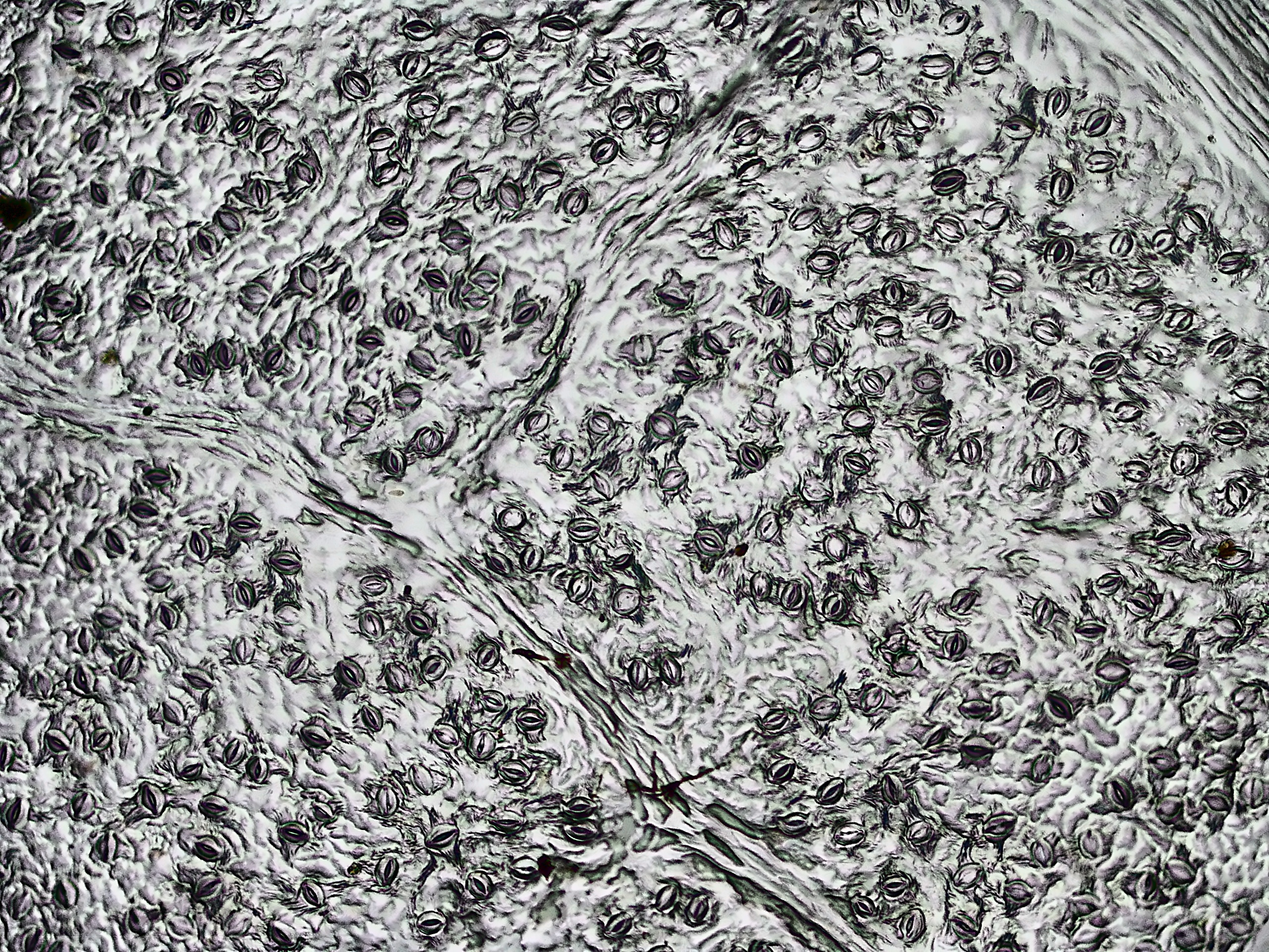stomata: (536, 9, 590, 48), (469, 29, 518, 71), (624, 36, 676, 75), (1161, 853, 1211, 893), (61, 656, 101, 705), (917, 45, 966, 84), (865, 768, 910, 810), (37, 276, 88, 313), (649, 278, 704, 312), (976, 335, 1015, 379), (21, 318, 79, 347), (45, 0, 95, 33), (44, 212, 88, 249), (1207, 609, 1252, 645), (1197, 745, 1247, 777), (333, 66, 380, 100), (926, 162, 973, 196), (41, 39, 97, 67), (1224, 467, 1258, 513), (802, 244, 850, 276), (1026, 591, 1066, 629), (151, 54, 184, 100), (1179, 202, 1216, 243), (102, 6, 144, 42), (874, 266, 910, 308), (122, 493, 174, 522), (68, 466, 103, 509), (981, 812, 1025, 846), (1041, 684, 1078, 724), (1075, 823, 1112, 863), (563, 511, 609, 543), (846, 46, 892, 78), (708, 0, 757, 30), (907, 366, 956, 396), (1234, 675, 1269, 717), (577, 54, 620, 88), (500, 108, 547, 139), (734, 440, 778, 473), (608, 580, 644, 620), (495, 176, 530, 217), (824, 297, 866, 331), (888, 496, 930, 530), (227, 102, 258, 148), (373, 203, 416, 236), (1102, 770, 1134, 814), (970, 46, 1009, 82), (793, 122, 834, 156), (1086, 347, 1127, 381), (935, 584, 986, 611), (211, 204, 250, 239), (338, 394, 377, 429), (987, 262, 1026, 297), (1122, 588, 1166, 619), (1146, 745, 1193, 774), (402, 91, 447, 121), (608, 97, 650, 129), (778, 574, 810, 616), (235, 280, 278, 311), (531, 152, 567, 189), (1086, 480, 1121, 518), (250, 61, 289, 95), (768, 30, 810, 61), (74, 80, 107, 119), (930, 629, 969, 662), (824, 820, 873, 846), (578, 408, 619, 439), (477, 548, 518, 579), (759, 282, 790, 323), (650, 875, 681, 916), (495, 757, 537, 787), (905, 98, 943, 131), (137, 780, 170, 818), (599, 908, 637, 941), (121, 902, 160, 934), (5, 528, 49, 556), (185, 874, 229, 902), (80, 174, 115, 209), (334, 283, 368, 319), (934, 6, 976, 35), (802, 338, 840, 370), (895, 905, 927, 943), (1174, 435, 1200, 481), (407, 761, 441, 796), (122, 281, 155, 317), (980, 196, 1013, 232), (650, 85, 687, 117), (105, 523, 137, 560), (428, 716, 465, 748), (1221, 907, 1258, 939), (933, 214, 971, 245), (267, 913, 305, 944), (1204, 418, 1251, 443), (711, 212, 741, 251), (1242, 771, 1268, 816), (129, 163, 158, 203), (1027, 372, 1061, 406), (821, 527, 855, 561), (450, 165, 483, 200), (415, 426, 450, 459), (816, 773, 849, 808), (920, 720, 956, 752), (278, 819, 319, 847), (786, 200, 823, 231), (960, 734, 998, 764), (387, 382, 429, 409), (776, 809, 815, 838), (161, 290, 195, 323), (659, 465, 693, 498), (384, 298, 416, 333), (378, 446, 410, 481), (149, 236, 185, 267), (1147, 330, 1178, 366), (946, 912, 983, 942), (402, 9, 443, 36), (367, 160, 408, 187), (466, 264, 504, 293), (95, 602, 133, 631), (1032, 837, 1061, 875), (481, 633, 510, 671), (557, 821, 607, 843), (1006, 880, 1045, 908), (1083, 101, 1115, 135), (356, 604, 387, 639), (383, 660, 418, 691), (368, 780, 399, 815), (1155, 789, 1186, 824), (244, 178, 274, 214), (294, 319, 324, 355), (841, 405, 877, 435), (337, 663, 373, 693), (406, 607, 442, 637), (78, 121, 107, 158), (43, 726, 80, 755), (467, 721, 496, 758), (1030, 318, 1068, 346), (1157, 523, 1195, 551), (860, 676, 888, 714), (1217, 545, 1261, 569), (402, 52, 436, 83), (766, 752, 797, 786), (747, 509, 782, 539), (839, 571, 881, 596), (69, 623, 104, 653), (406, 348, 443, 376), (565, 570, 593, 607), (916, 409, 953, 437), (17, 922, 54, 950), (1124, 264, 1165, 289), (591, 137, 624, 168), (496, 501, 529, 532), (588, 469, 619, 502), (926, 300, 957, 333), (545, 443, 579, 473), (699, 526, 733, 556), (1087, 149, 1122, 178), (1204, 714, 1243, 740), (228, 509, 264, 537), (1111, 394, 1147, 422), (984, 654, 1026, 678), (1096, 662, 1138, 686), (69, 545, 100, 577), (792, 64, 823, 96), (1107, 229, 1140, 259), (1205, 328, 1238, 358), (819, 589, 852, 619), (848, 889, 878, 922), (1202, 785, 1232, 818), (192, 224, 218, 262), (1231, 375, 1269, 401), (806, 696, 844, 722), (646, 412, 680, 441), (1162, 651, 1203, 675), (658, 654, 686, 689), (1074, 616, 1113, 641), (1032, 453, 1055, 495), (294, 726, 340, 747), (560, 181, 586, 218), (142, 566, 179, 592), (162, 698, 199, 724), (48, 878, 78, 910), (193, 793, 233, 817), (374, 852, 404, 884), (294, 265, 323, 298), (212, 335, 240, 369), (441, 222, 475, 250), (511, 298, 545, 326), (176, 754, 210, 782), (904, 820, 938, 848), (188, 99, 213, 137), (473, 686, 514, 709), (950, 862, 986, 888), (1172, 922, 1208, 948), (367, 124, 398, 154), (736, 118, 766, 149), (260, 345, 289, 377), (1167, 305, 1196, 337), (191, 527, 216, 564), (852, 2, 885, 30), (509, 855, 542, 883), (958, 694, 1000, 716), (352, 324, 386, 351), (270, 547, 304, 574), (769, 348, 796, 382), (1215, 250, 1249, 277), (1092, 568, 1126, 595), (683, 892, 710, 926), (733, 156, 769, 181), (284, 651, 315, 680), (626, 658, 654, 690), (669, 361, 706, 385), (418, 266, 452, 292), (9, 789, 30, 831), (299, 877, 324, 912), (516, 706, 551, 731), (493, 808, 531, 831), (957, 437, 987, 466), (843, 447, 874, 475), (630, 334, 657, 366), (467, 867, 494, 899), (1117, 460, 1158, 481), (870, 315, 911, 336), (1045, 85, 1070, 119), (1084, 268, 1118, 293), (426, 823, 460, 848), (109, 237, 138, 266), (233, 581, 262, 610), (523, 408, 551, 438), (156, 599, 180, 634), (71, 787, 99, 817), (1130, 295, 1161, 322), (231, 638, 262, 665), (194, 835, 226, 861), (1047, 233, 1072, 266), (360, 698, 384, 732), (880, 225, 907, 255), (748, 571, 775, 601), (253, 123, 279, 154), (116, 650, 142, 681), (428, 652, 454, 683), (215, 2, 247, 27), (871, 109, 896, 141), (1139, 872, 1164, 904), (710, 325, 734, 358), (1001, 111, 1028, 140), (1049, 170, 1075, 200), (860, 366, 886, 396), (1031, 751, 1057, 781), (520, 542, 545, 573), (847, 207, 878, 232), (0, 60, 17, 105), (883, 876, 917, 898), (802, 480, 836, 502), (185, 670, 216, 694), (416, 911, 448, 934), (1054, 426, 1081, 453), (310, 797, 339, 822), (1149, 228, 1179, 252), (893, 656, 927, 677), (180, 350, 208, 375), (560, 799, 601, 816), (291, 157, 315, 186), (125, 89, 148, 119), (144, 467, 180, 486), (224, 736, 248, 764), (94, 835, 117, 864), (613, 550, 642, 573), (461, 325, 482, 356), (11, 887, 34, 915), (760, 709, 790, 730), (0, 740, 18, 773), (360, 575, 388, 596), (171, 0, 201, 19), (643, 123, 673, 142), (888, 0, 918, 19), (252, 755, 274, 779), (95, 724, 115, 749)
